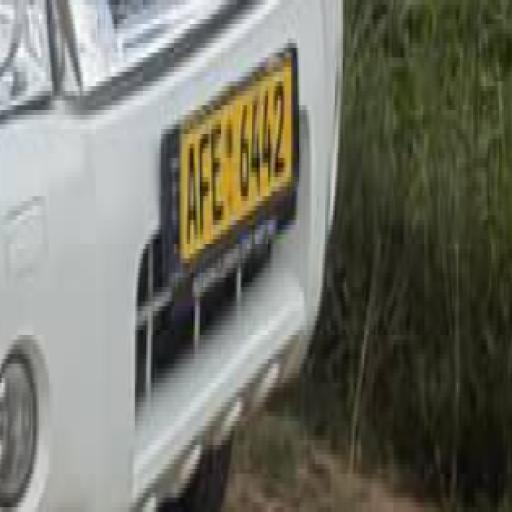number-plates: (183, 64, 301, 243)
